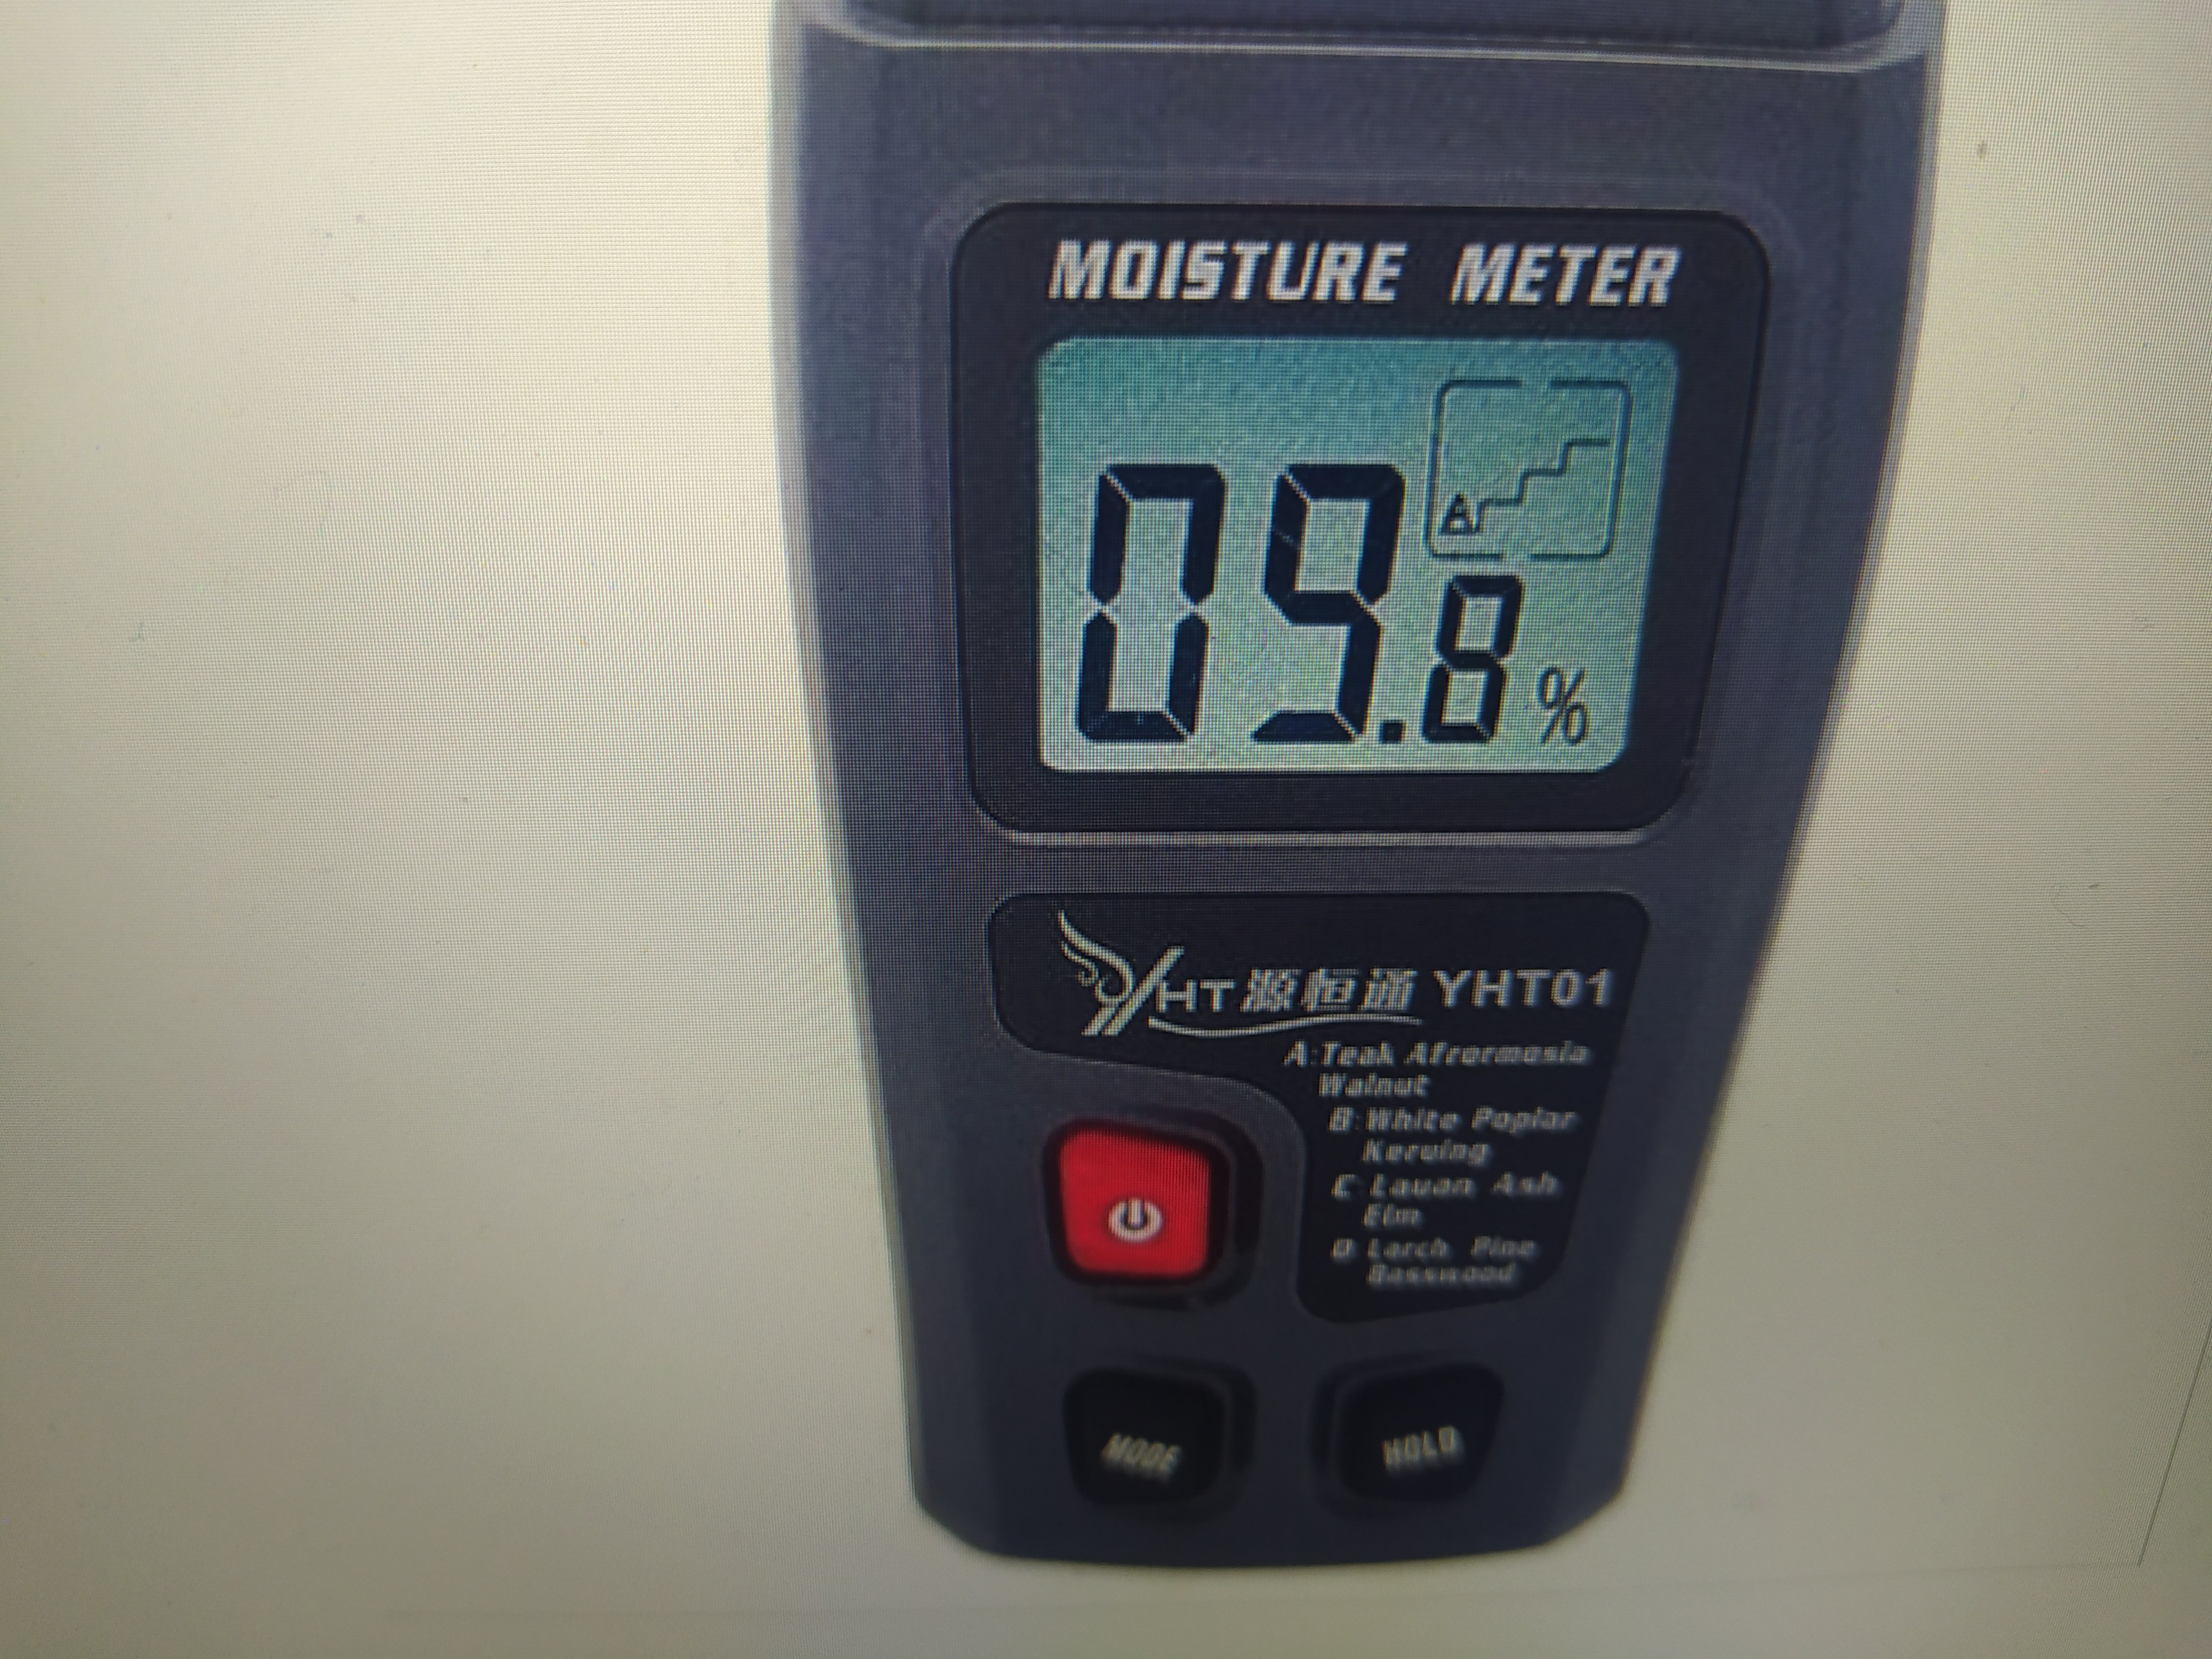.: (1383, 464, 1409, 748)
0: (1073, 460, 1228, 741), (1548, 969, 1585, 1011)
1: (1587, 965, 1611, 1011)
8: (1414, 575, 1522, 749)
9: (1244, 465, 1383, 742)
